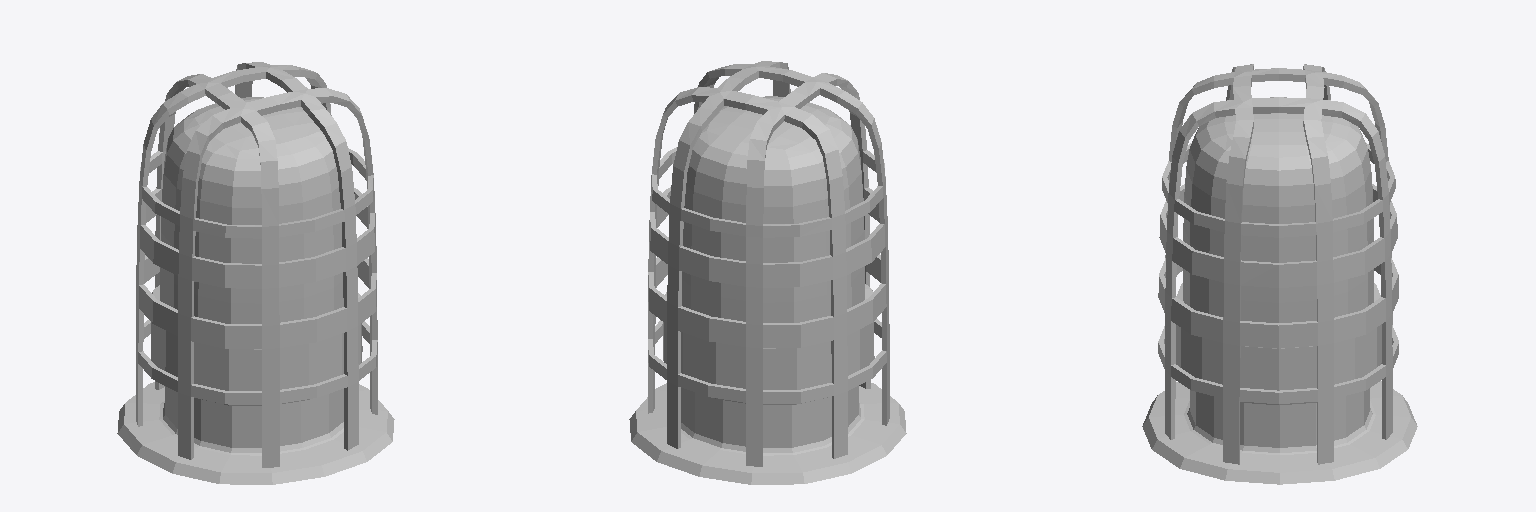
File: EmergencyLight.obj
3 renders of one model, left to right at view 1: azimuth 30°, elevation 25°; view 2: azimuth 150°, elevation 25°; view 3: azimuth 270°, elevation 25°, orthographic.
Visible parts, largest first — view 1: Emergency_light_Sphere; view 2: Emergency_light_Sphere; view 3: Emergency_light_Sphere.
Part boxes in pixels (bbox=[...]): Emergency_light_Sphere: bbox=[117, 62, 394, 484]; Emergency_light_Sphere: bbox=[629, 61, 906, 484]; Emergency_light_Sphere: bbox=[1142, 64, 1417, 484].
Size of the model in its own units: 0.2279 by 0.3113 by 0.2279.